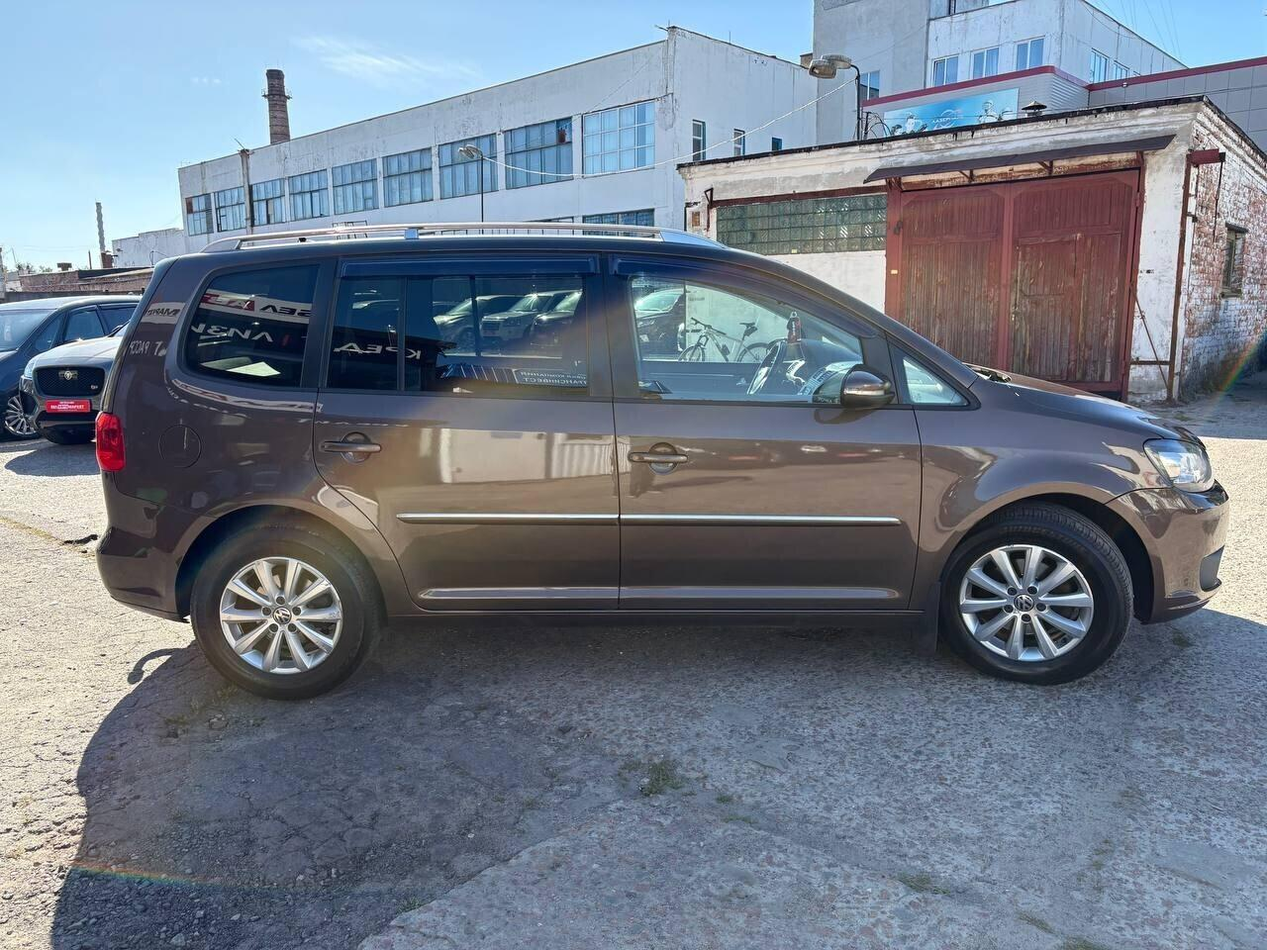Touran_2010-2015: (90, 238, 1231, 688)
